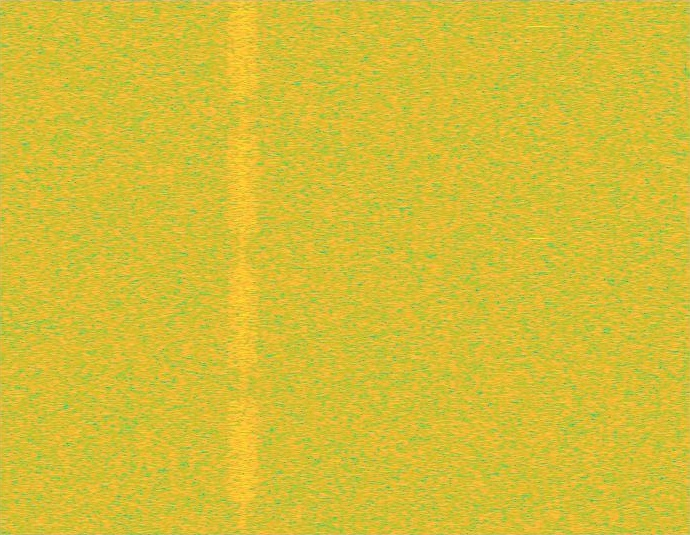5G: (226, 0, 260, 534)
DSSS: (239, 0, 247, 534)
Radar: (532, 0, 546, 534)
